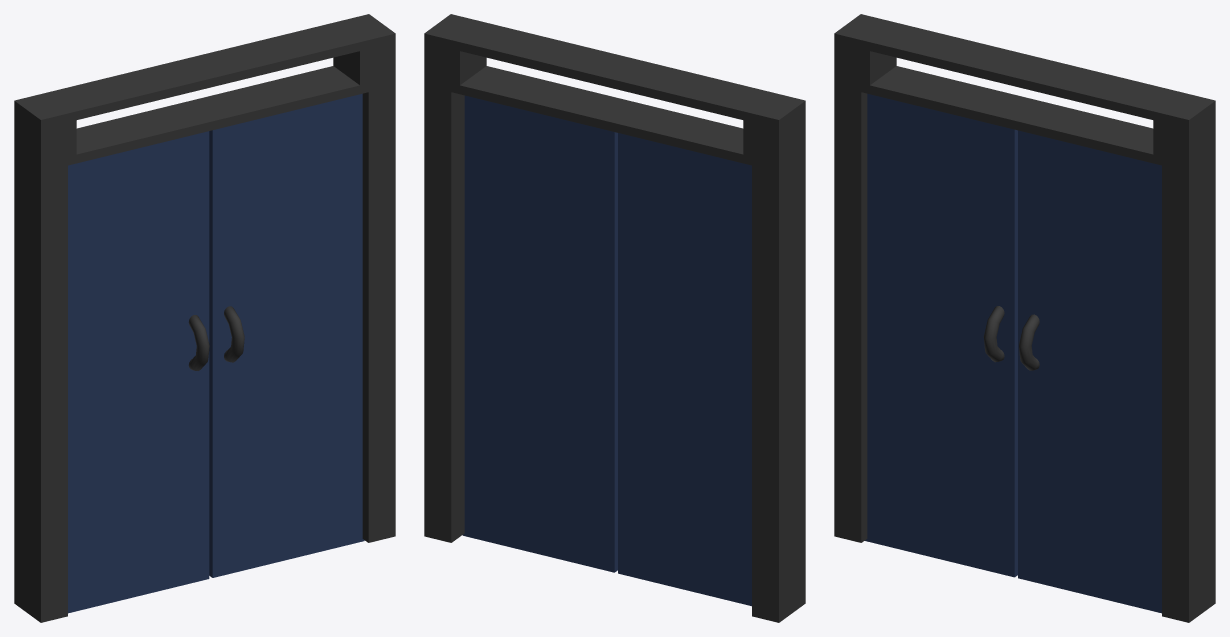
File: Metal Door.fbx
3 views of the same model, side by side, from view 1: azimuth 30°, elevation 25°; view 2: azimuth 150°, elevation 25°; view 3: azimuth 330°, elevation 25° (orthographic).
Parts seen in each view (by area): view 1: Cube.022, Cube.020, Cube.023, Torus.001, Torus; view 2: Cube.020, Cube.022, Cube.023; view 3: Cube.020, Cube.023, Cube.022, Torus.001, Torus.
Part boxes in pixels (bbox=[...]): Cube.022: bbox=[209, 93, 364, 577]; Cube.020: bbox=[14, 14, 395, 622]; Cube.023: bbox=[68, 131, 209, 613]; Torus.001: bbox=[224, 306, 244, 362]; Torus: bbox=[188, 315, 209, 370]; Cube.020: bbox=[424, 14, 805, 622]; Cube.022: bbox=[462, 95, 617, 572]; Cube.023: bbox=[618, 133, 751, 606]; Cube.020: bbox=[834, 14, 1215, 622]; Cube.023: bbox=[865, 93, 1017, 577]; Cube.022: bbox=[1018, 130, 1161, 613]; Torus.001: bbox=[1019, 314, 1039, 370]; Torus: bbox=[983, 306, 1004, 362].
Bounding box in the file's own units: 200 × 272 × 32.84.
